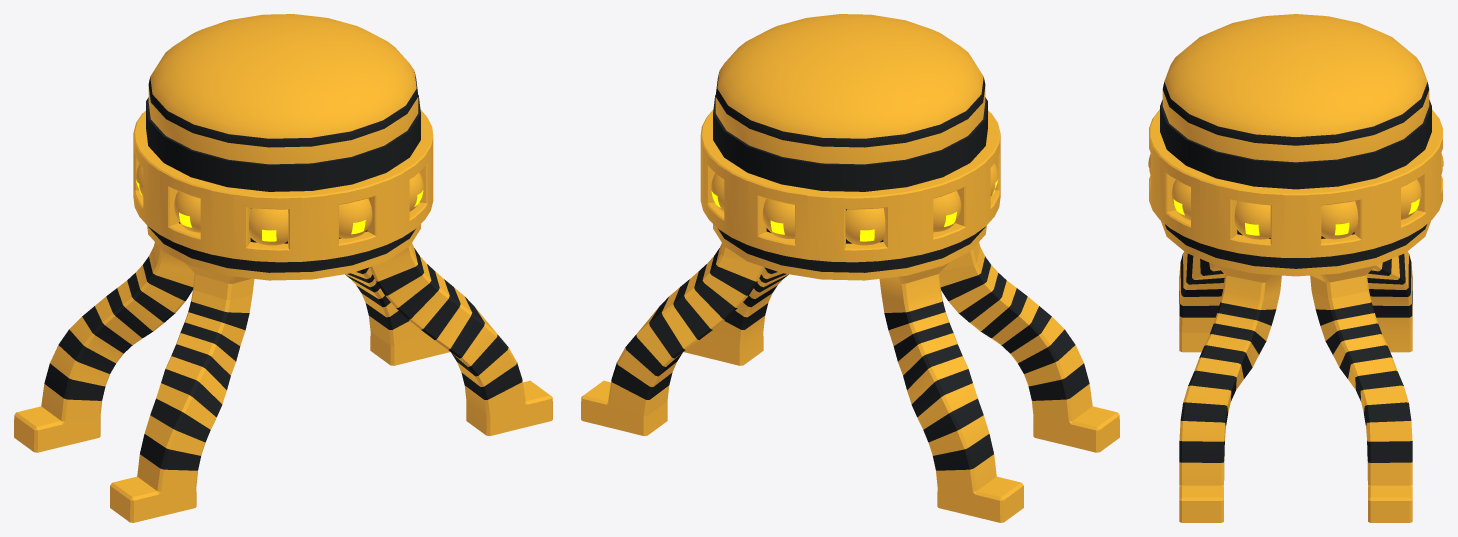
Rendered from religious_archway_lick.fbx.
3 views of the same model, side by side, from view 1: azimuth 30°, elevation 25°; view 2: azimuth 150°, elevation 25°; view 3: azimuth 270°, elevation 25° (orthographic).
Visible parts, largest first — view 1: body, visor, leg4, leg1, leg3, leg2, g__eye_02, g__eye_01, g__eye_03; view 2: body, visor, leg1, leg4, leg2, leg3, g__eye_05, g__eye_06, g__eye_04; view 3: body, visor, leg3, leg2, leg4, leg1, g__eye_08, g__eye_09, g__eye_07, g__eye_10.
Boxes of the visible parts, x1,y1,x2,y2 form: body: (146,14,420,280); visor: (133,110,433,262); leg4: (110,262,254,522); leg1: (14,242,194,452); leg3: (370,243,552,435); leg2: (345,267,450,365); g__eye_02: (249,208,288,245); g__eye_01: (339,198,372,238); g__eye_03: (174,191,200,232); body: (713,14,987,280); visor: (700,110,1000,262); leg1: (879,262,1023,522); leg4: (939,242,1119,452); leg2: (581,243,763,435); leg3: (683,267,788,365); g__eye_05: (845,208,885,245); g__eye_06: (762,199,794,238); g__eye_04: (933,190,961,232); body: (1160,14,1431,276); visor: (1149,109,1442,257); leg3: (1179,265,1281,522); leg2: (1310,265,1412,522); leg4: (1179,251,1224,352); leg1: (1367,251,1412,352); g__eye_08: (1321,201,1358,239); g__eye_09: (1234,201,1270,239); g__eye_07: (1401,179,1421,219); g__eye_10: (1171,180,1190,220).
Bounding box in the file's own units: 575 × 506 × 354.
